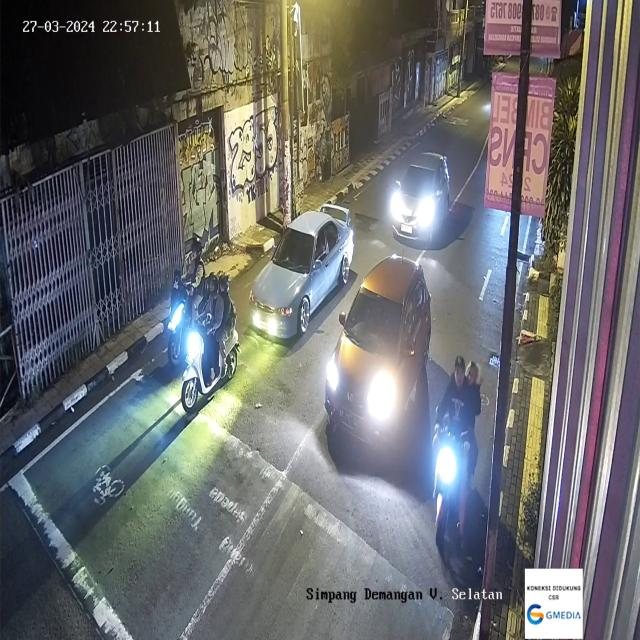car: (322, 261, 430, 445), (250, 208, 356, 339), (392, 152, 451, 253)
motorcycle: (430, 355, 486, 559), (186, 269, 247, 408), (168, 234, 208, 370)
